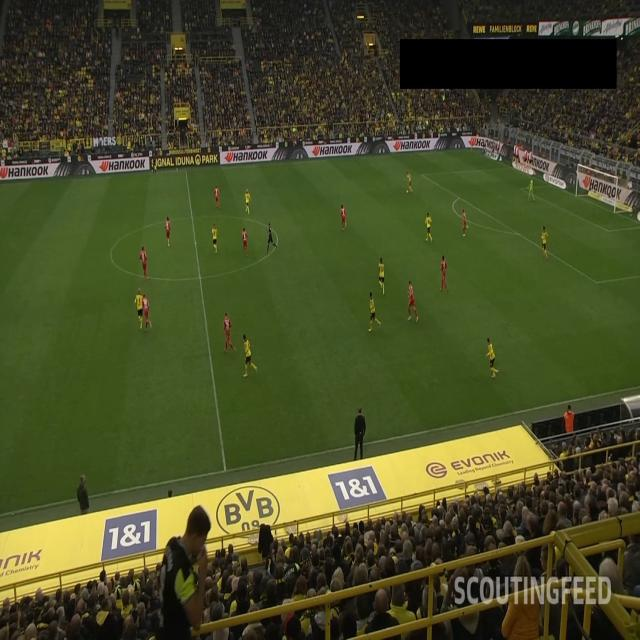ball: (406, 189, 409, 194)
